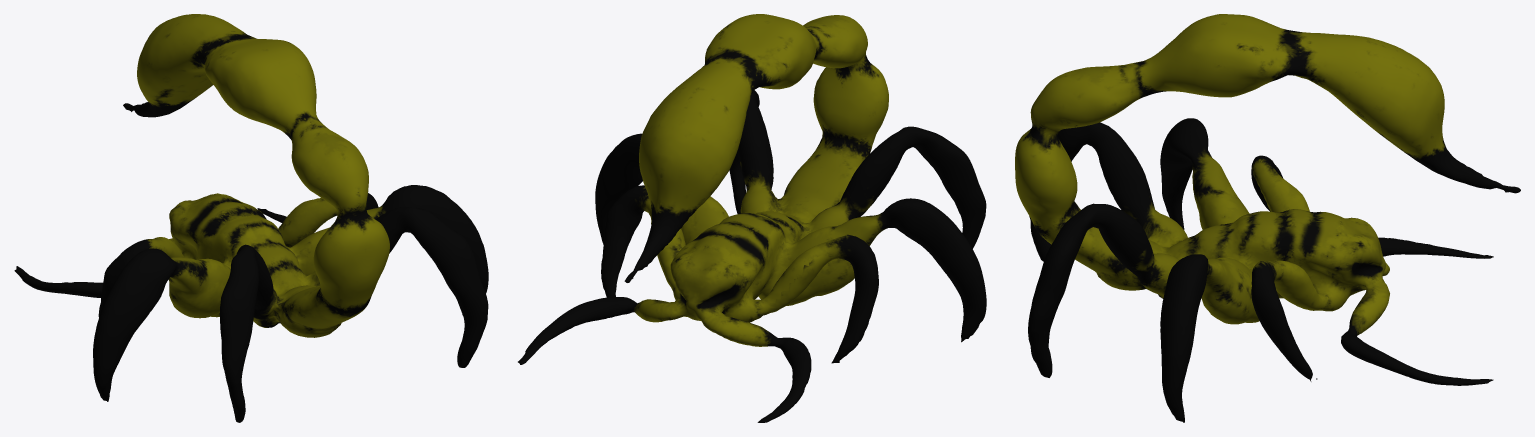
Rendered from ScorpionBoss.fbx.
3 renders of one model, left to right at view 1: azimuth 30°, elevation 25°; view 2: azimuth 150°, elevation 25°; view 3: azimuth 270°, elevation 25°, orthographic. The views are drawn at different scales.
Visible parts, largest first — view 1: Cube; view 2: Cube; view 3: Cube.
Part boxes in pixels (bbox=[...]): Cube: bbox=[14, 14, 488, 422]; Cube: bbox=[518, 14, 986, 422]; Cube: bbox=[1015, 14, 1520, 422].
Size of the model in its own units: 1507 by 1081 by 1609.
